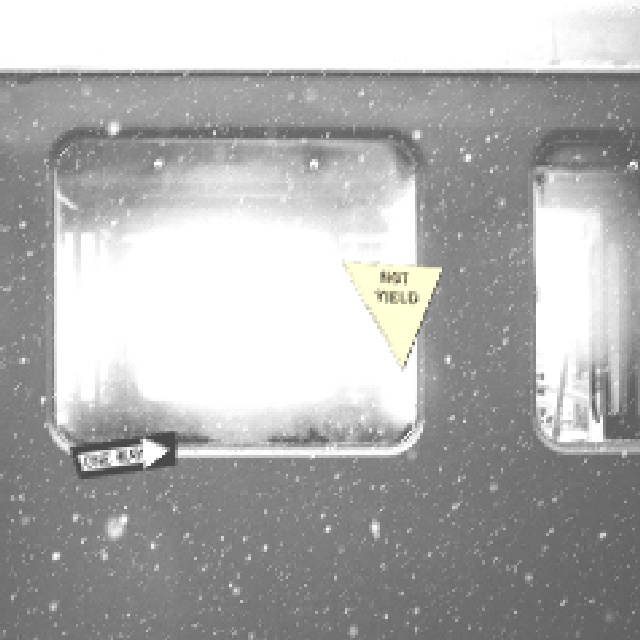NOT_YIELD: (339, 260, 441, 368)
ONE_WAY_ right: (66, 429, 174, 478)
